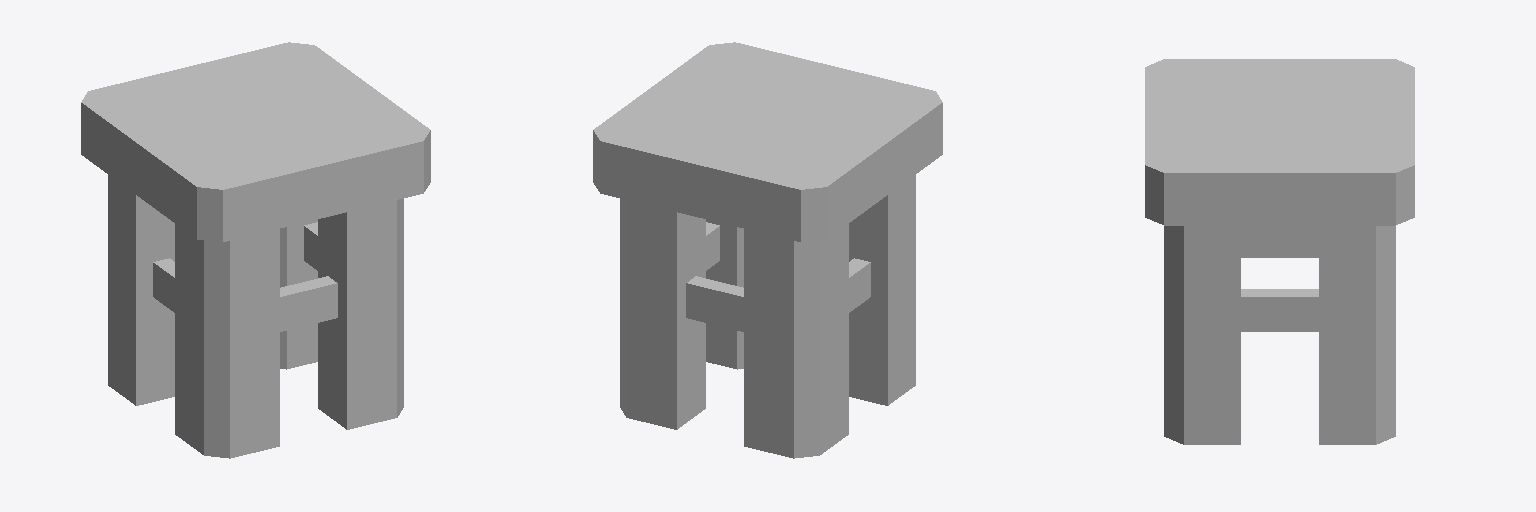
The model's file is table_single.obj.
3 renders of one model, left to right at view 1: azimuth 30°, elevation 25°; view 2: azimuth 150°, elevation 25°; view 3: azimuth 270°, elevation 25°, orthographic.
Parts seen in each view (by area): view 1: TABLE_LEGS.001_Cube.006, TABLE_TOP.001_Cube.007; view 2: TABLE_LEGS.001_Cube.006, TABLE_TOP.001_Cube.007; view 3: TABLE_TOP.001_Cube.007, TABLE_LEGS.001_Cube.006.
Part boxes in pixels (bbox=[...]): TABLE_LEGS.001_Cube.006: bbox=[108, 175, 403, 458]; TABLE_TOP.001_Cube.007: bbox=[81, 42, 430, 241]; TABLE_LEGS.001_Cube.006: bbox=[620, 175, 915, 458]; TABLE_TOP.001_Cube.007: bbox=[593, 42, 942, 241]; TABLE_TOP.001_Cube.007: bbox=[1145, 59, 1414, 225]; TABLE_LEGS.001_Cube.006: bbox=[1164, 226, 1395, 444].
Bounding box in the file's own units: 0.875 × 1 × 0.875.